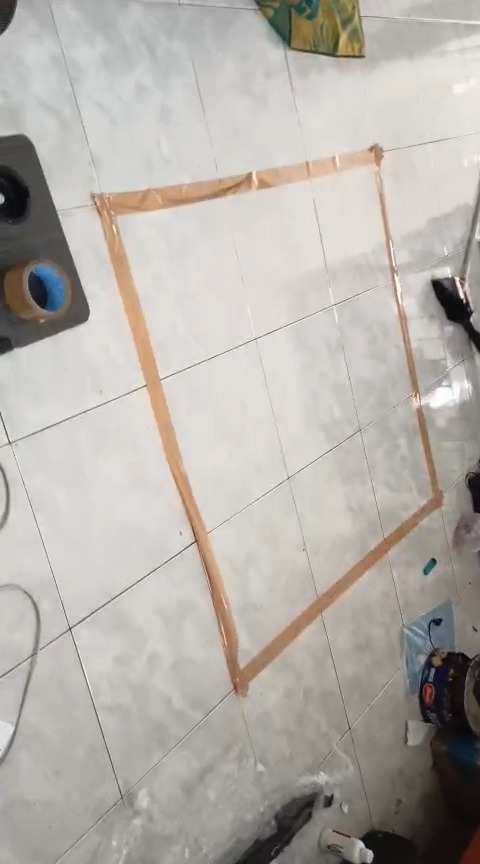floor marking: (94, 144, 443, 694)
